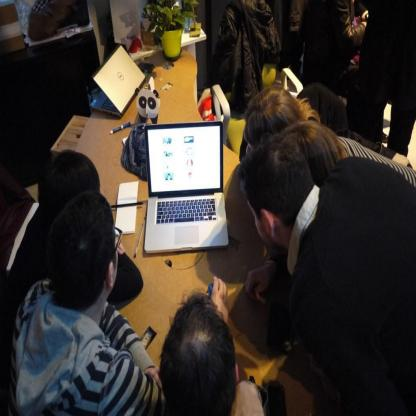board: (143, 121, 229, 259), (90, 46, 145, 118)
